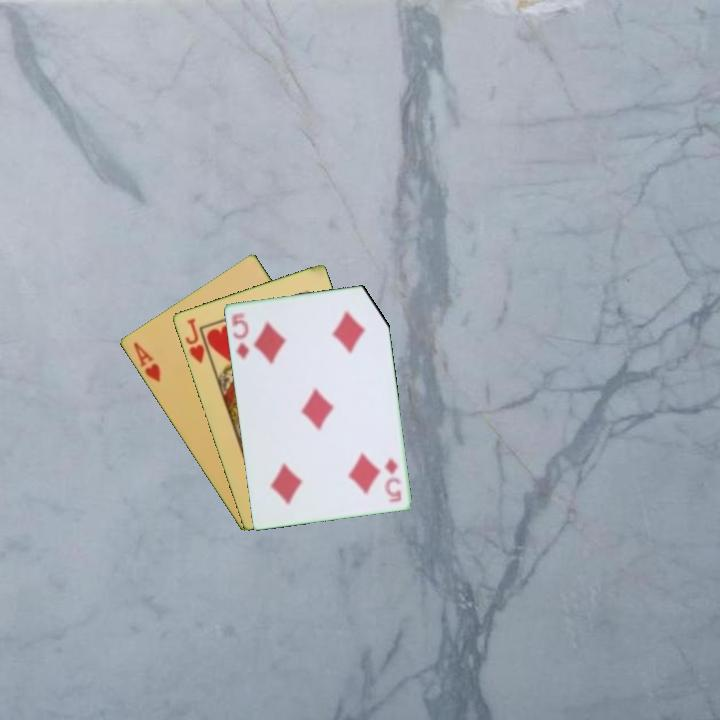5d: (380, 454, 404, 505), (229, 308, 251, 363)
Ah: (129, 339, 163, 385)
Jh: (181, 314, 214, 367)
